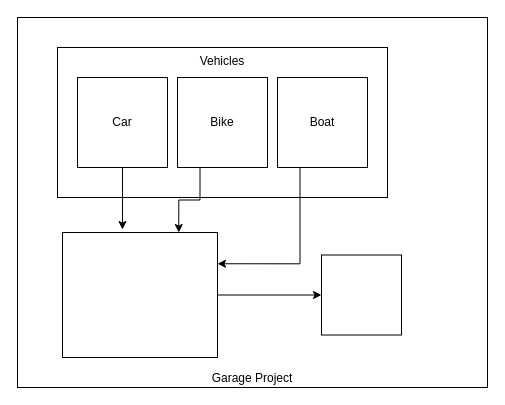
Image size: 505x405. Some labels were removed from this diagram. Here are the shapes that lost their labels. From the top down, the centre of each, then its label:
(x=140, y=295): Garage
(x=361, y=294): Runner
